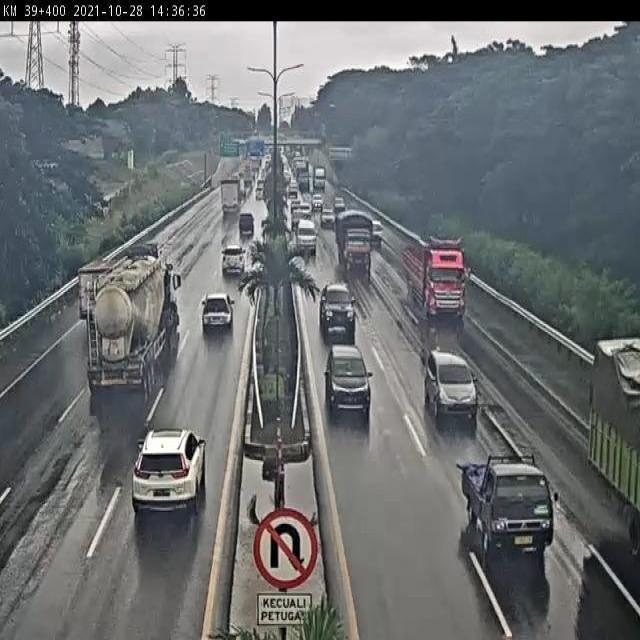truck: (83, 256, 183, 396), (404, 237, 468, 315), (332, 211, 371, 272)
